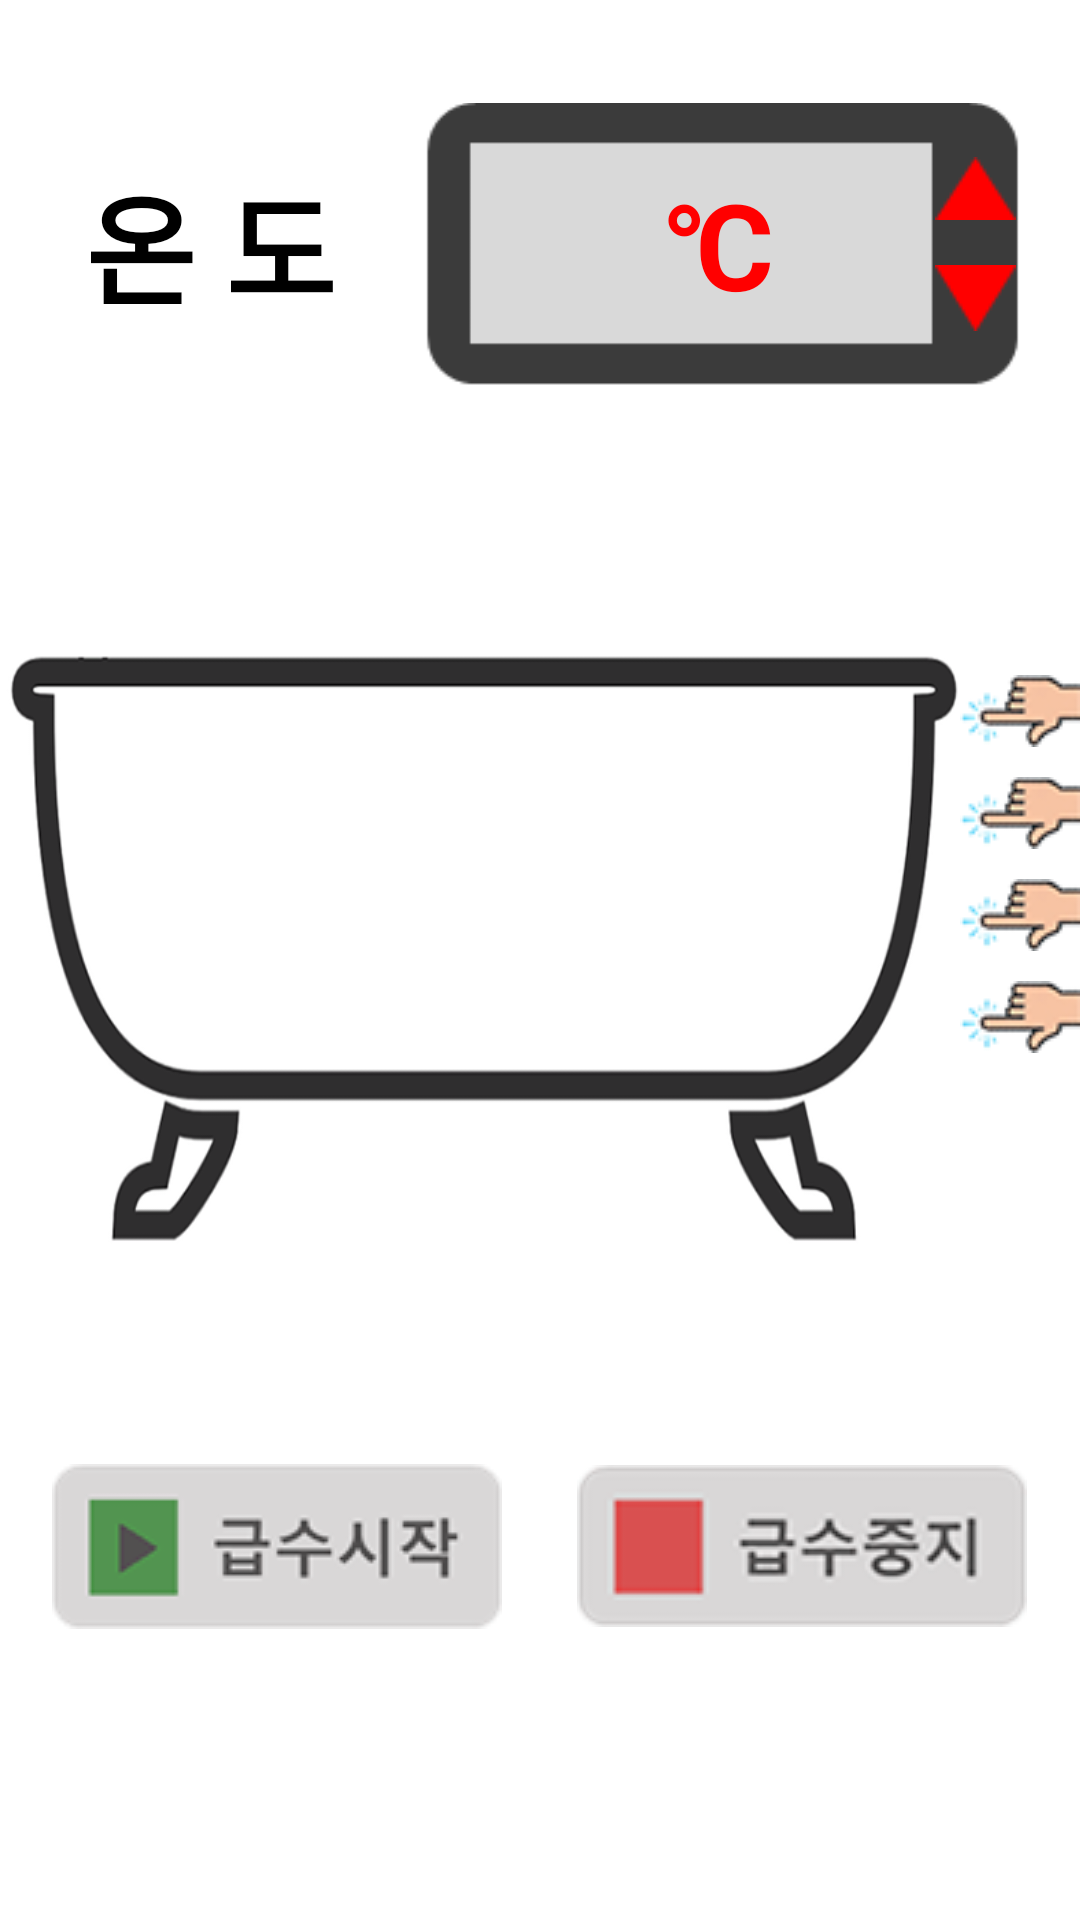

Named icons in this screenshot (1080 × 1920) and their bounding boxes, region(x1, y1, x2, y2):
click: region(962, 675, 1080, 747), region(962, 777, 1080, 849), region(962, 879, 1080, 951), region(962, 981, 1080, 1053)
